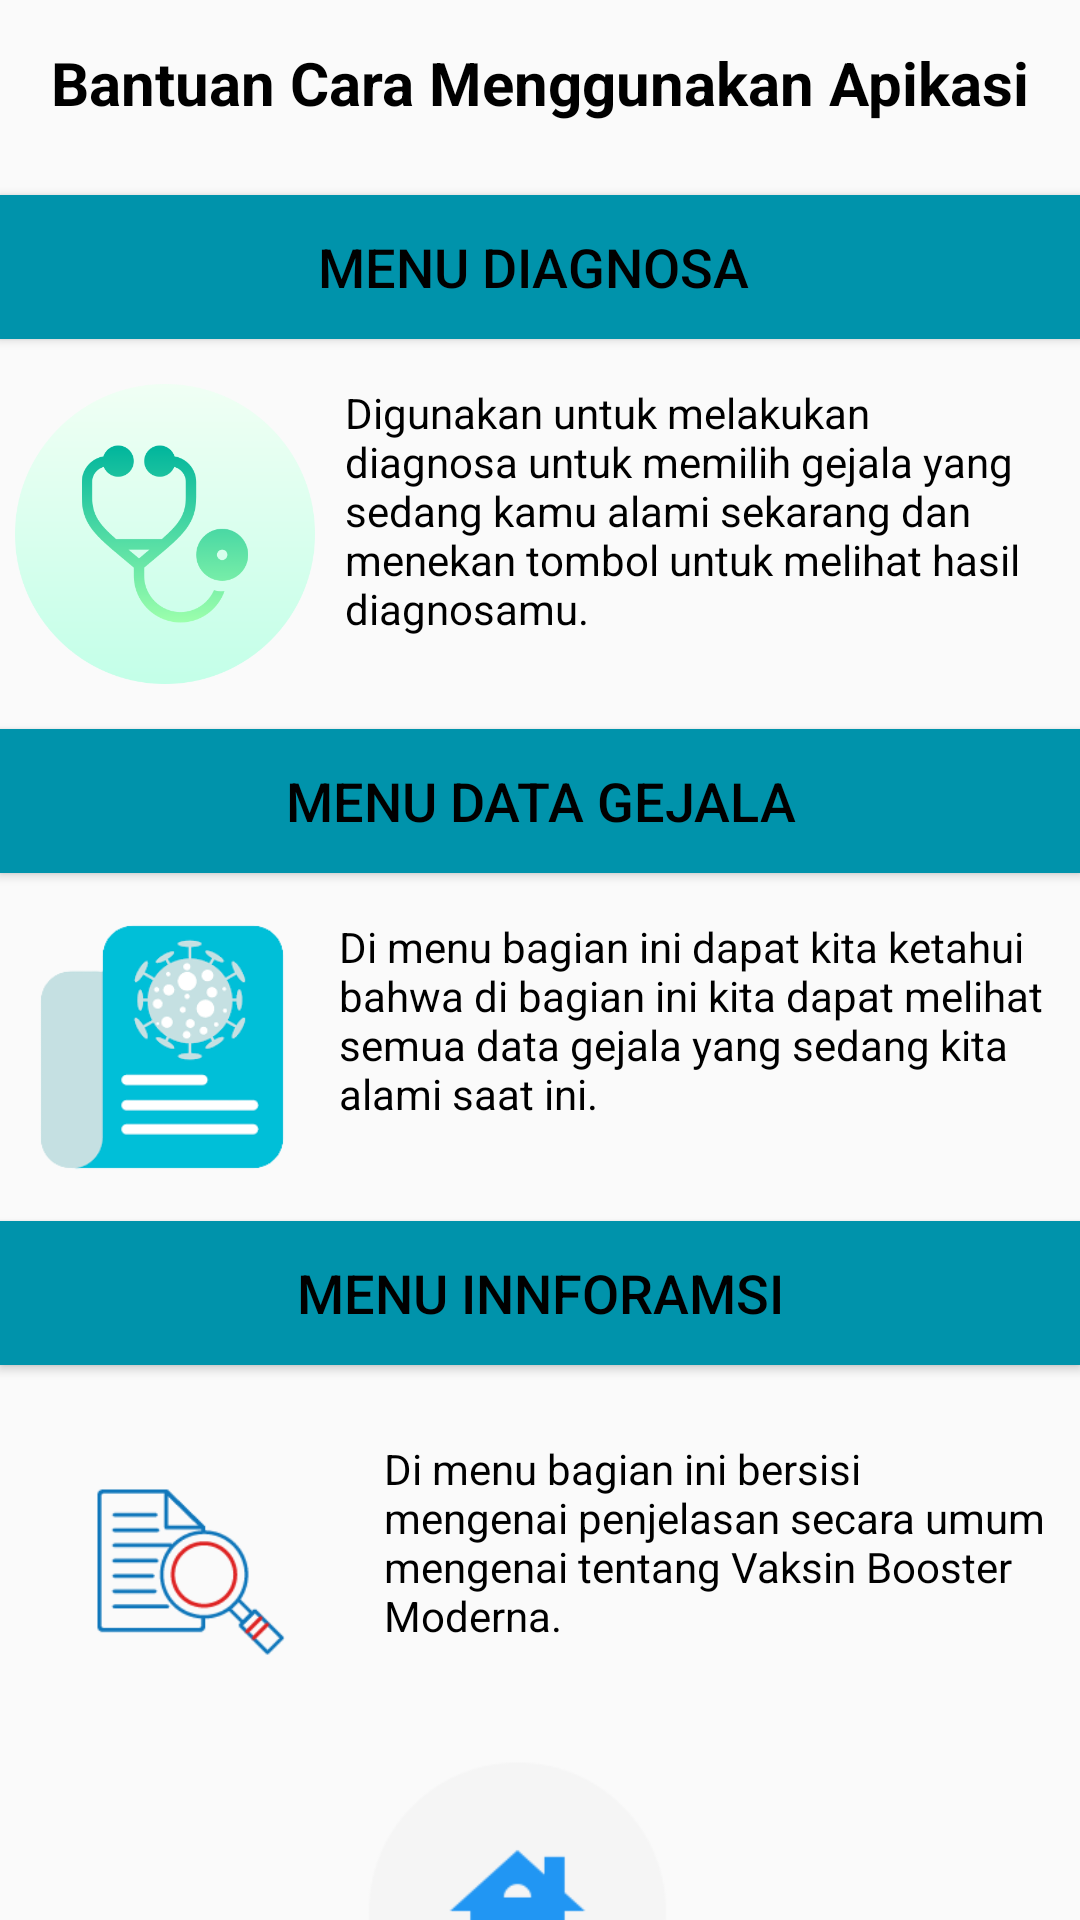

Where to tap for icons on this 1080×1920 app screen, as [x,y]:
informasi: [190,1572]
